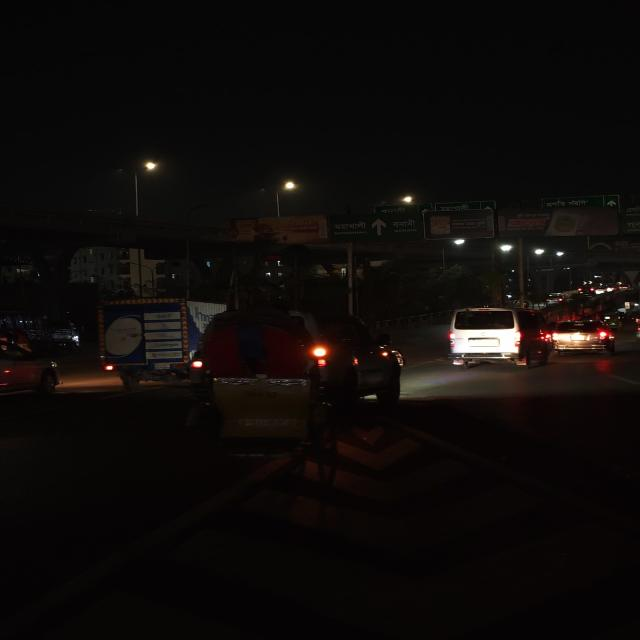car: (444, 302, 543, 369), (338, 315, 404, 408), (551, 313, 615, 357)
rickshaw: (188, 322, 337, 488)
truck: (92, 292, 204, 381)
